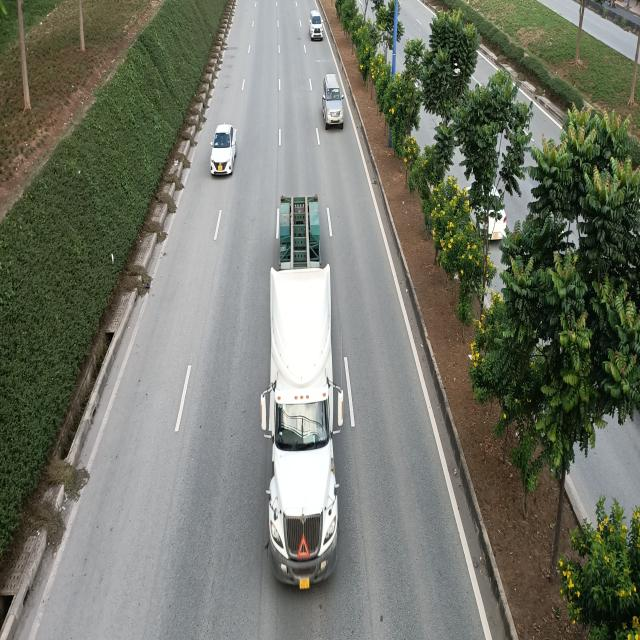car: (210, 124, 238, 176), (322, 75, 344, 126), (310, 10, 324, 38)
container: (260, 192, 344, 588)
